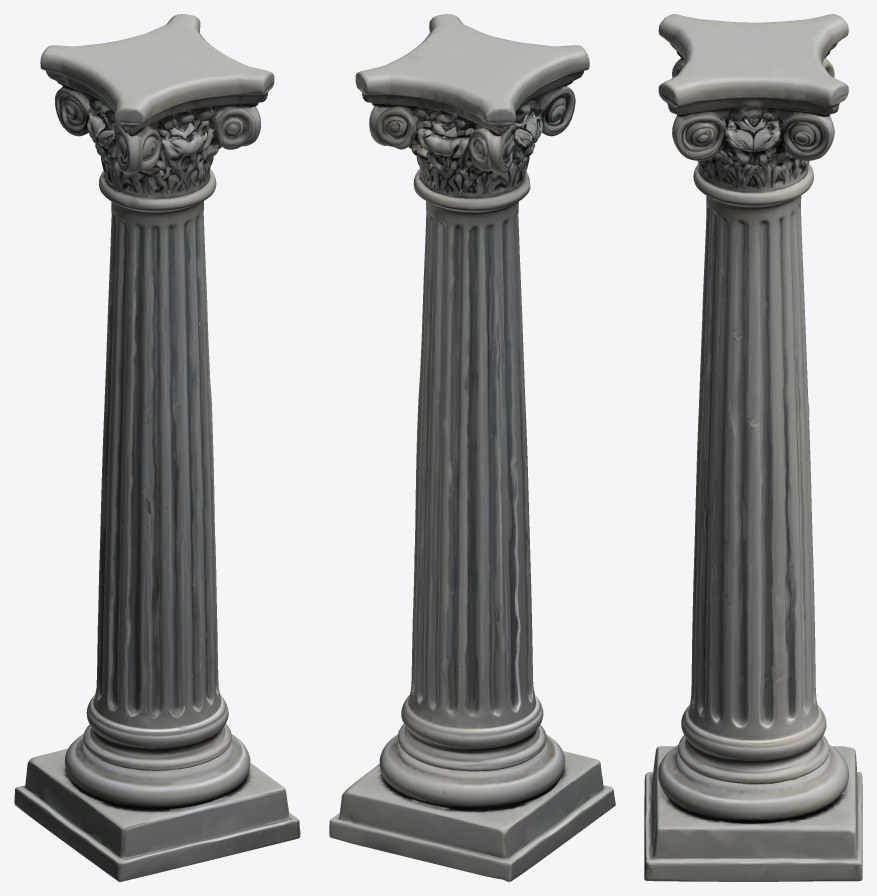
The model's file is plaza-decorative-column.glb.
The picture shows the model from 3 angles, left to right: view 1: azimuth 30°, elevation 25°; view 2: azimuth 150°, elevation 25°; view 3: azimuth 270°, elevation 25°; orthographic projection. The views are drawn at different scales.
Parts seen in each view (by area): view 1: tripo_node_fdff13fd-b23c-4b14-a7b1-225bf43267df; view 2: tripo_node_fdff13fd-b23c-4b14-a7b1-225bf43267df; view 3: tripo_node_fdff13fd-b23c-4b14-a7b1-225bf43267df.
Part boxes in pixels (x1,y1,x2,y2): tripo_node_fdff13fd-b23c-4b14-a7b1-225bf43267df: (14,14,300,881); tripo_node_fdff13fd-b23c-4b14-a7b1-225bf43267df: (329,14,615,881); tripo_node_fdff13fd-b23c-4b14-a7b1-225bf43267df: (644,14,862,881).
Bounding box in the file's own units: 1.26 × 5 × 1.26.
1 material, 1 textured.
